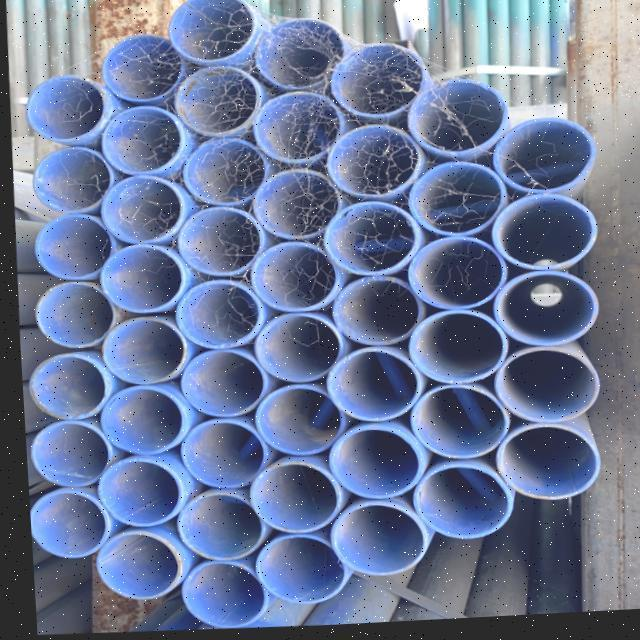pipe: (481, 424, 599, 512), (479, 195, 598, 282), (482, 346, 599, 433), (486, 270, 604, 355), (484, 116, 598, 203), (402, 78, 514, 164), (314, 119, 426, 205), (399, 158, 510, 244), (396, 308, 508, 392), (318, 498, 430, 582), (315, 419, 422, 505), (324, 40, 430, 126), (406, 462, 512, 546), (402, 383, 508, 467), (314, 199, 422, 281), (316, 343, 420, 428), (398, 235, 507, 316), (238, 453, 341, 538), (20, 65, 119, 153), (88, 378, 188, 464), (248, 86, 349, 170), (248, 15, 349, 99), (80, 523, 186, 603), (245, 380, 348, 462), (242, 164, 346, 244), (241, 532, 348, 608), (242, 238, 340, 320), (86, 451, 184, 533), (244, 311, 347, 389), (166, 486, 266, 566), (167, 61, 268, 140), (320, 274, 423, 350), (166, 556, 266, 633), (89, 170, 189, 247), (92, 310, 188, 390), (171, 346, 269, 424), (92, 101, 190, 179), (19, 411, 113, 492), (169, 416, 266, 494), (176, 133, 274, 210), (167, 276, 263, 354), (168, 202, 264, 280), (90, 240, 188, 316), (95, 28, 188, 108), (23, 274, 118, 352), (18, 348, 115, 424), (21, 207, 117, 283), (160, 0, 260, 68), (22, 484, 108, 563), (28, 140, 116, 214)
